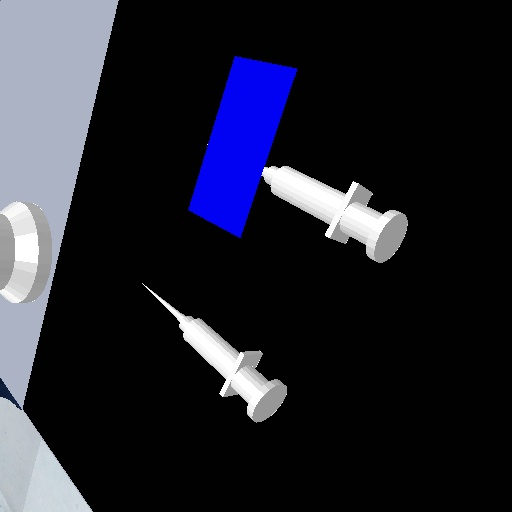jeringuilla: (136, 278, 291, 427), (257, 164, 417, 266)
